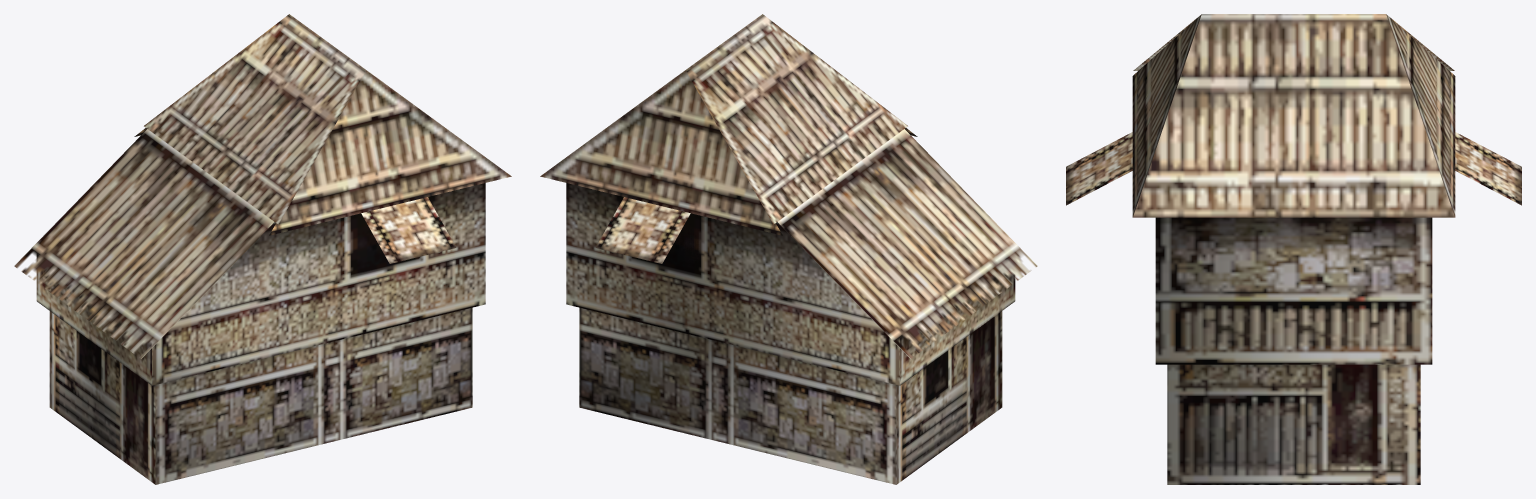
The model's file is Civilian - Residential Building - Farm House - Night - CBNFarmHse_n.glb.
3 views of the same model, side by side, from view 1: azimuth 30°, elevation 25°; view 2: azimuth 150°, elevation 25°; view 3: azimuth 270°, elevation 25° (orthographic). The views are drawn at different scales.
Visible parts, largest first — view 1: CBNFARMHSE_N; view 2: CBNFARMHSE_N; view 3: CBNFARMHSE_N.
Part boxes in pixels (x1=…): CBNFARMHSE_N: x1=14, y1=14, x2=511, y2=484; CBNFARMHSE_N: x1=540, y1=14, x2=1037, y2=484; CBNFARMHSE_N: x1=1066, y1=14, x2=1521, y2=484.
Size of the model in its own units: 44 by 40 by 39.59.
Materials: 1 (1 with a texture image).
